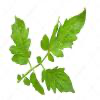Tomato leaf: (37, 8, 90, 60), (7, 15, 33, 65), (41, 68, 79, 95), (29, 69, 45, 96)
